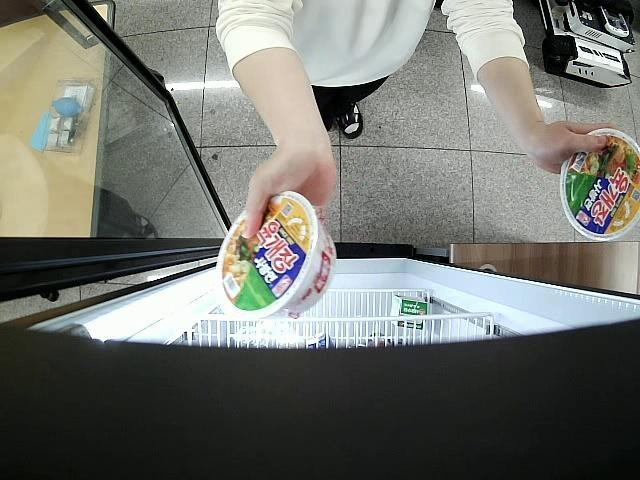09_yukGaeJang: (216, 192, 336, 322), (559, 129, 640, 242)
